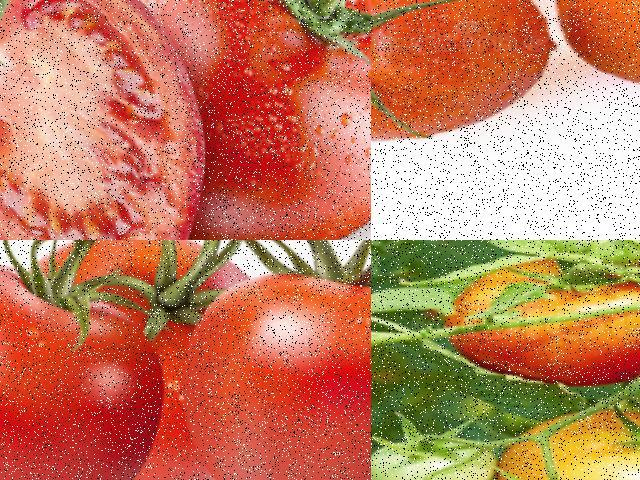tomato: (113, 0, 370, 239), (24, 240, 266, 479), (182, 266, 370, 479), (0, 262, 166, 479), (371, 0, 560, 156), (446, 262, 639, 392), (557, 0, 639, 93)
